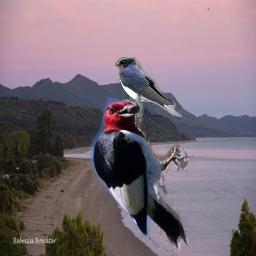Swallow: (115, 57, 182, 119)
Woodpecker: (90, 91, 194, 253)
